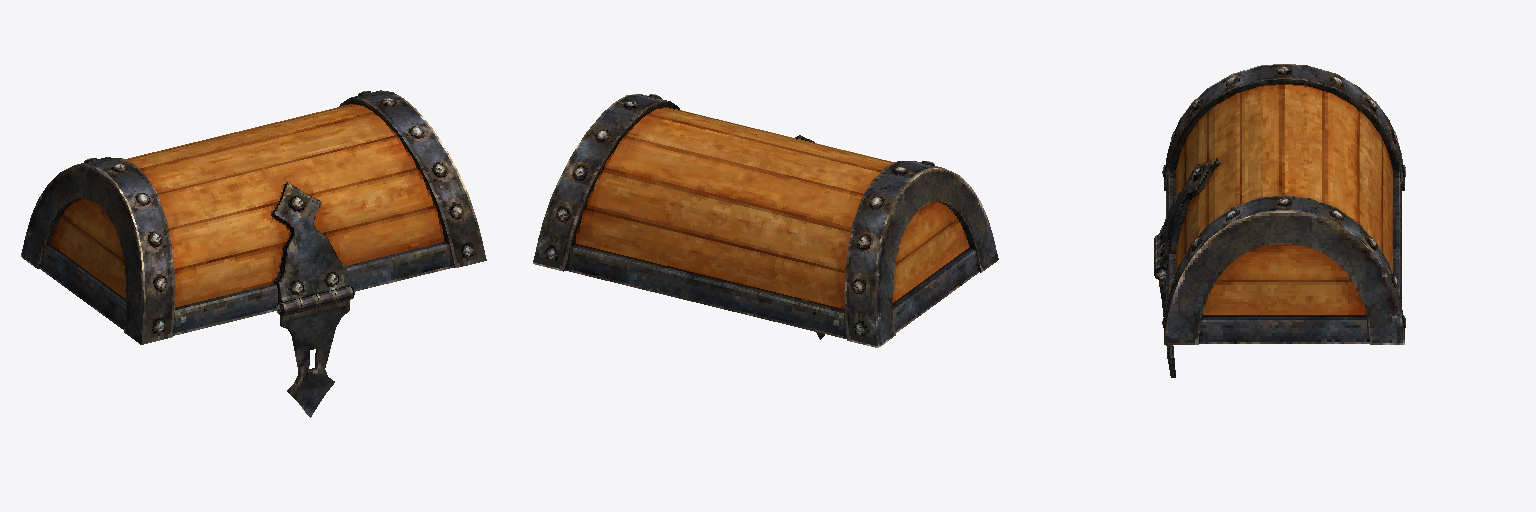
3 views of the same model, side by side, from view 1: azimuth 30°, elevation 25°; view 2: azimuth 150°, elevation 25°; view 3: azimuth 270°, elevation 25° (orthographic).
Visible parts, largest first — view 1: Chest_Lid_268_268; view 2: Chest_Lid_268_268; view 3: Chest_Lid_268_268.
Boxes of the visible parts, <box> form: Chest_Lid_268_268: <box>21,90,486,417</box>; Chest_Lid_268_268: <box>533,94,998,347</box>; Chest_Lid_268_268: <box>1154,64,1405,377</box>.
Bounding box in the file's own units: 0.1305 × 0.0881 × 0.0827.
2 materials, 2 textured.